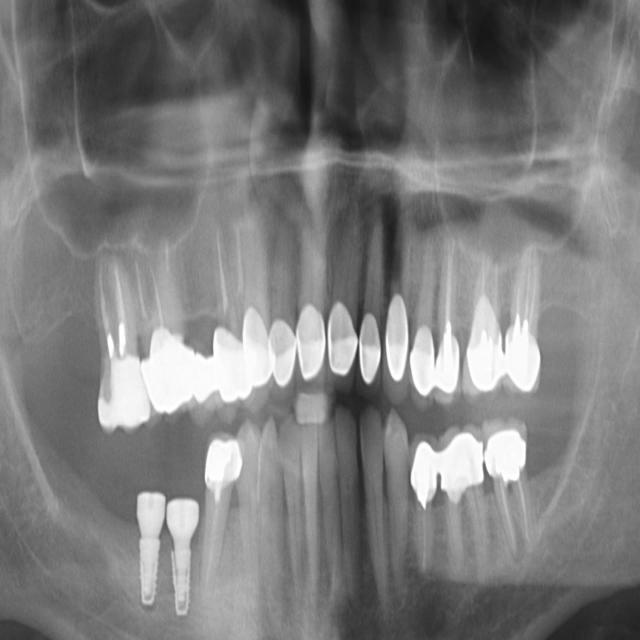implant: (126, 463, 170, 611), (165, 465, 204, 613)
kanal-tedavisi: (95, 265, 139, 364), (496, 473, 540, 571), (139, 256, 181, 356), (510, 240, 545, 337), (206, 219, 236, 321), (432, 237, 460, 344), (415, 499, 436, 582)
kaplama: (85, 359, 149, 426), (506, 322, 549, 401), (353, 304, 388, 398), (382, 288, 412, 395), (324, 297, 360, 378), (438, 430, 488, 488), (152, 342, 192, 410), (410, 312, 441, 399), (300, 296, 329, 388), (470, 312, 505, 388), (489, 424, 533, 474), (203, 434, 242, 486), (273, 317, 299, 394), (215, 336, 248, 396), (239, 310, 266, 380), (413, 435, 440, 492)
kopru: (186, 320, 226, 417)
